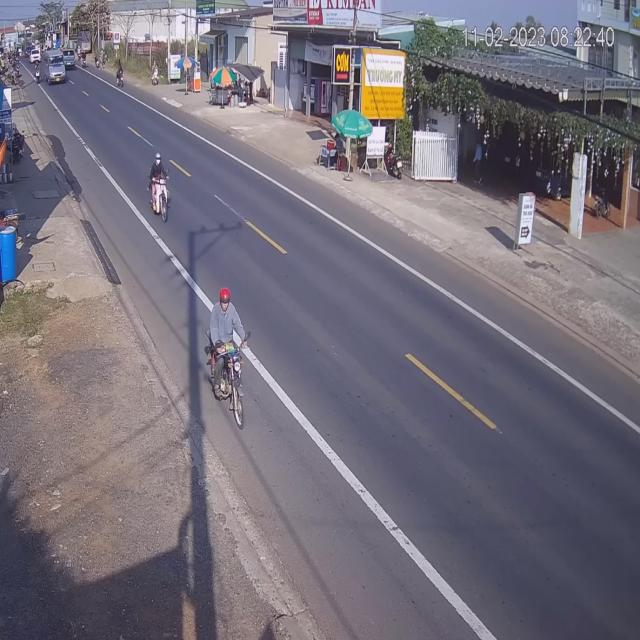bus: (48, 51, 67, 85)
car: (64, 48, 76, 71)
motorbike: (203, 288, 246, 426), (148, 154, 170, 222)
